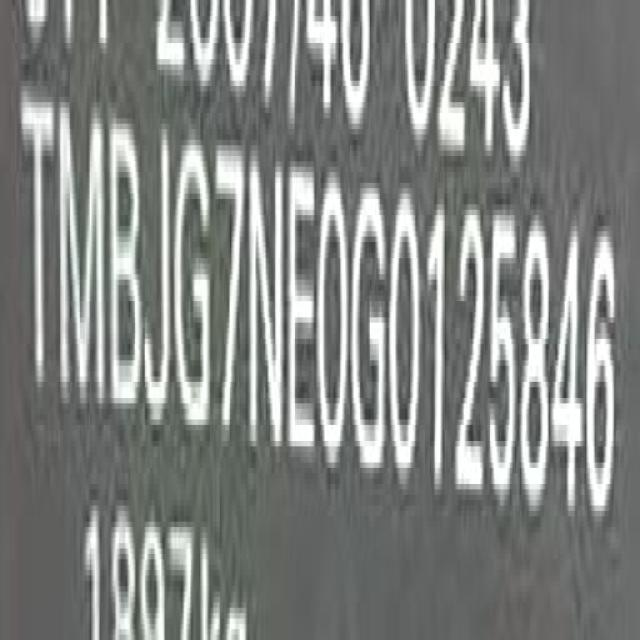0: (318, 168, 349, 474), (392, 196, 423, 492)
1: (428, 206, 449, 504)
2: (455, 209, 484, 510)
4: (551, 218, 585, 520)
5: (490, 212, 520, 512)
6: (588, 224, 622, 526)
7: (216, 145, 247, 455)
8: (521, 216, 550, 514)
B: (108, 114, 144, 423)
E: (290, 165, 318, 468)
G: (174, 136, 214, 441), (350, 179, 388, 478)
J: (142, 126, 173, 434)
M: (60, 96, 107, 418)
N: (245, 152, 285, 454)
T: (21, 89, 57, 419)
